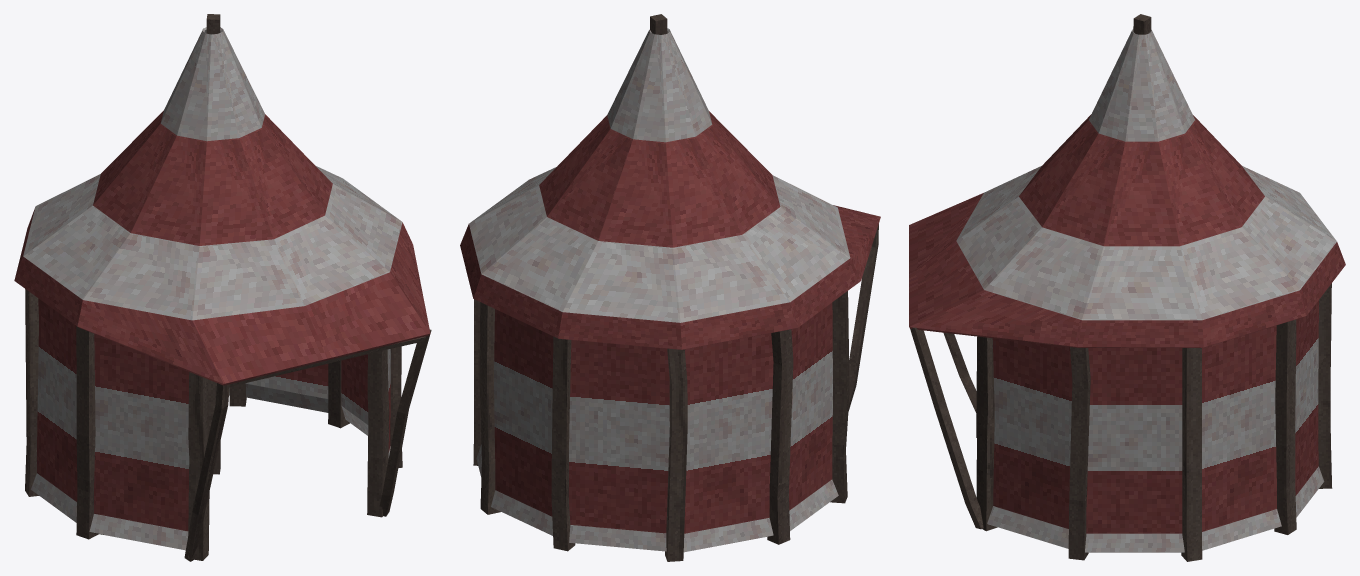
File: market_stall_round_red.glb
3 renders of one model, left to right at view 1: azimuth 30°, elevation 25°; view 2: azimuth 150°, elevation 25°; view 3: azimuth 270°, elevation 25°, orthographic.
Visible parts, largest first — view 1: market_stall_round_red; view 2: market_stall_round_red; view 3: market_stall_round_red.
Part boxes in pixels (x1,y1,x2,y2): market_stall_round_red: (14,14,431,561); market_stall_round_red: (460,14,880,561); market_stall_round_red: (909,14,1345,561).
Bounding box in the file's own units: 3.74 × 4.94 × 4.17.
Materials: 2 (2 with a texture image).
